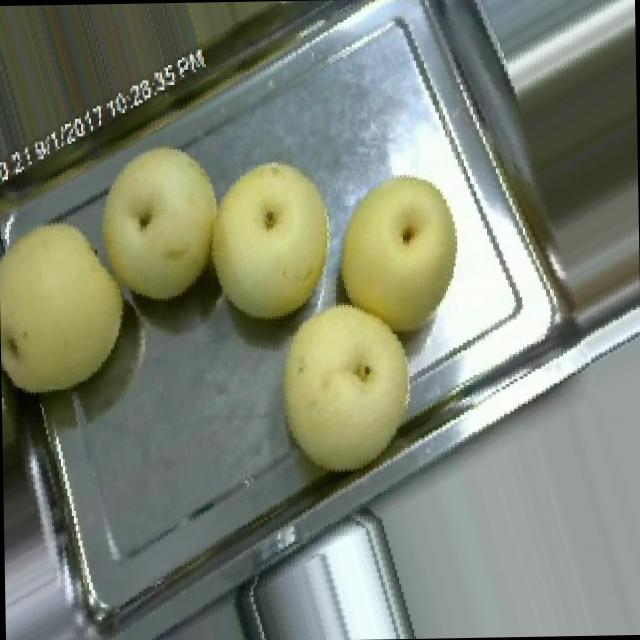Fruit: (255, 273, 443, 497), (0, 196, 151, 415), (322, 153, 484, 350), (70, 118, 224, 325), (203, 139, 346, 337)
